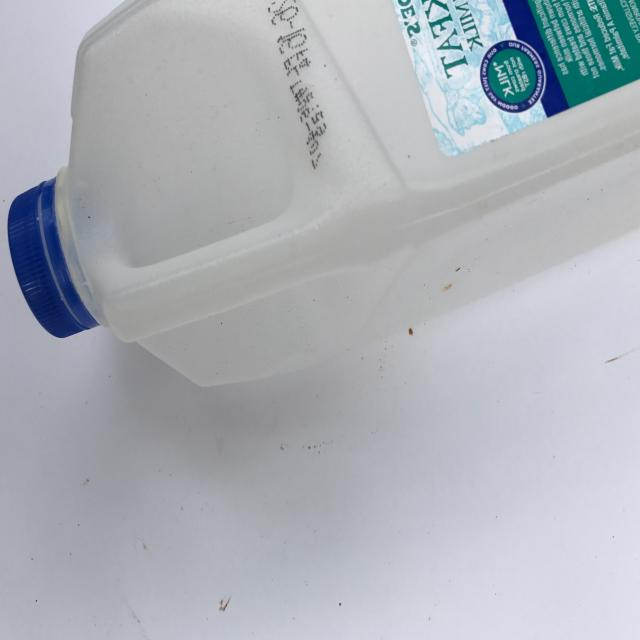plastic: (8, 0, 640, 389)
